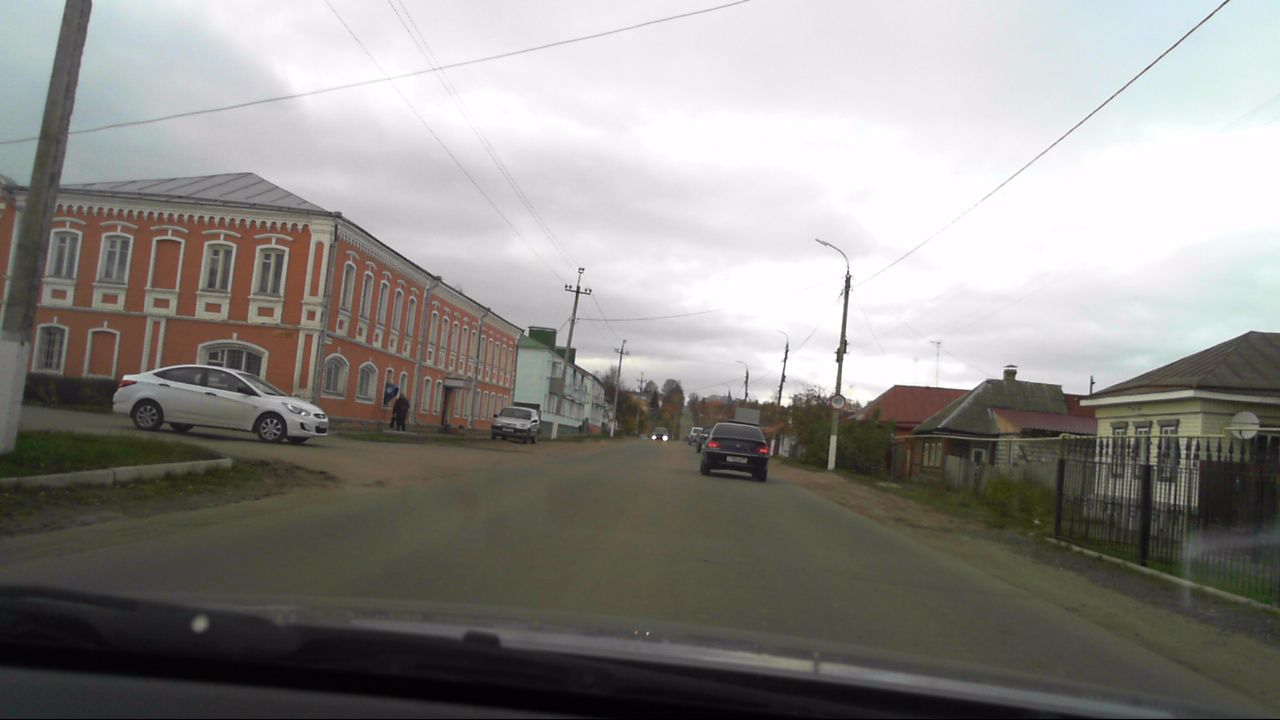speed_warning_40: (830, 393, 847, 410)
